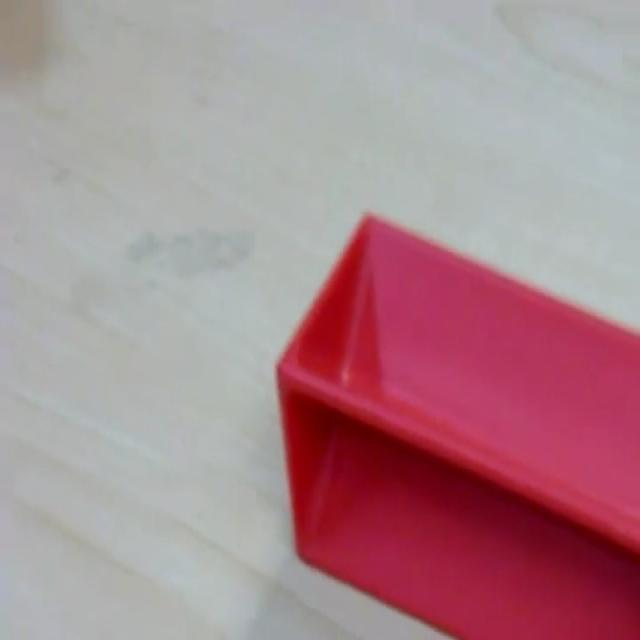red_block: (274, 208, 638, 636)
